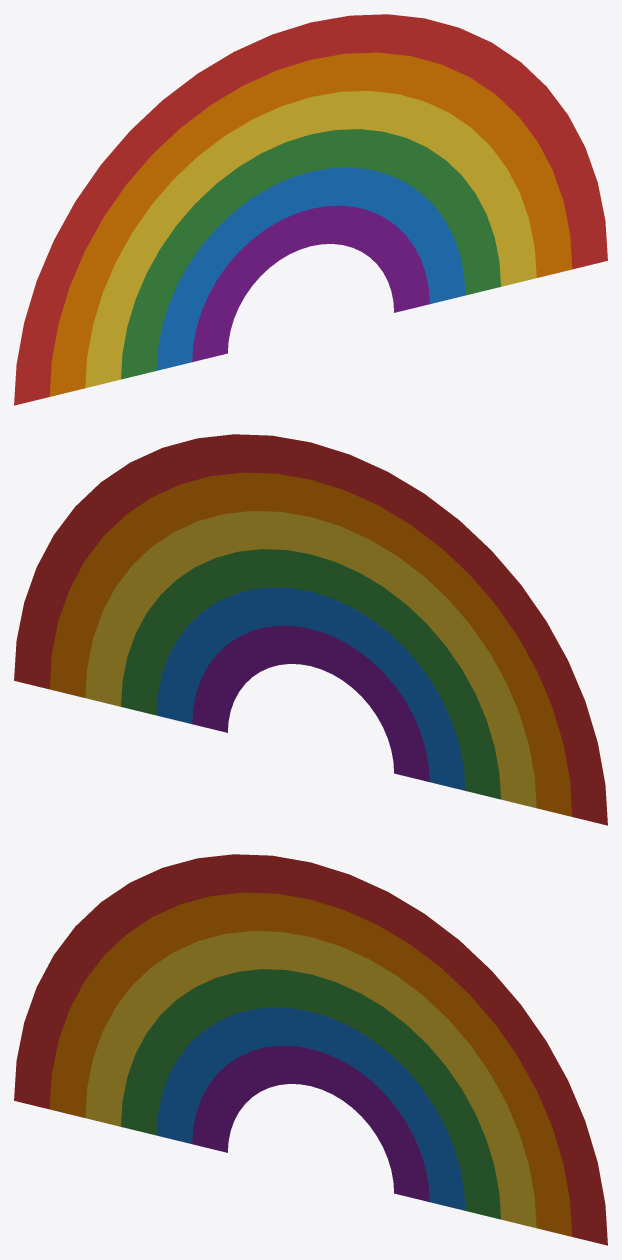
The model's file is regnbage.glb.
3 views of the same model, one above another, from view 1: azimuth 30°, elevation 25°; view 2: azimuth 150°, elevation 25°; view 3: azimuth 330°, elevation 25° (orthographic).
Visible parts, largest first — view 1: regnbage; view 2: regnbage; view 3: regnbage.
Part boxes in pixels (<box>): regnbage: <box>14,14,607,405</box>; regnbage: <box>14,434,607,825</box>; regnbage: <box>14,854,607,1245</box>.
Size of the model in its own units: 1 by 0.5 by 0.
